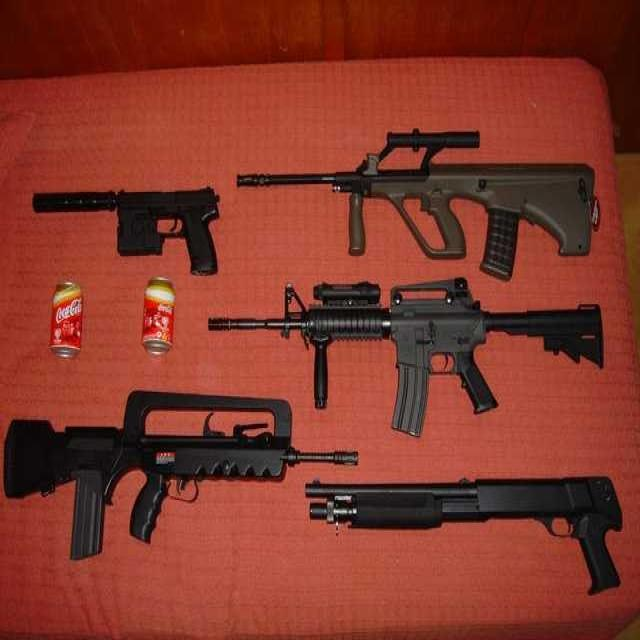heavyweapon: (1, 392, 382, 570), (203, 274, 623, 429), (224, 109, 608, 276), (310, 457, 626, 616), (22, 167, 247, 283)
